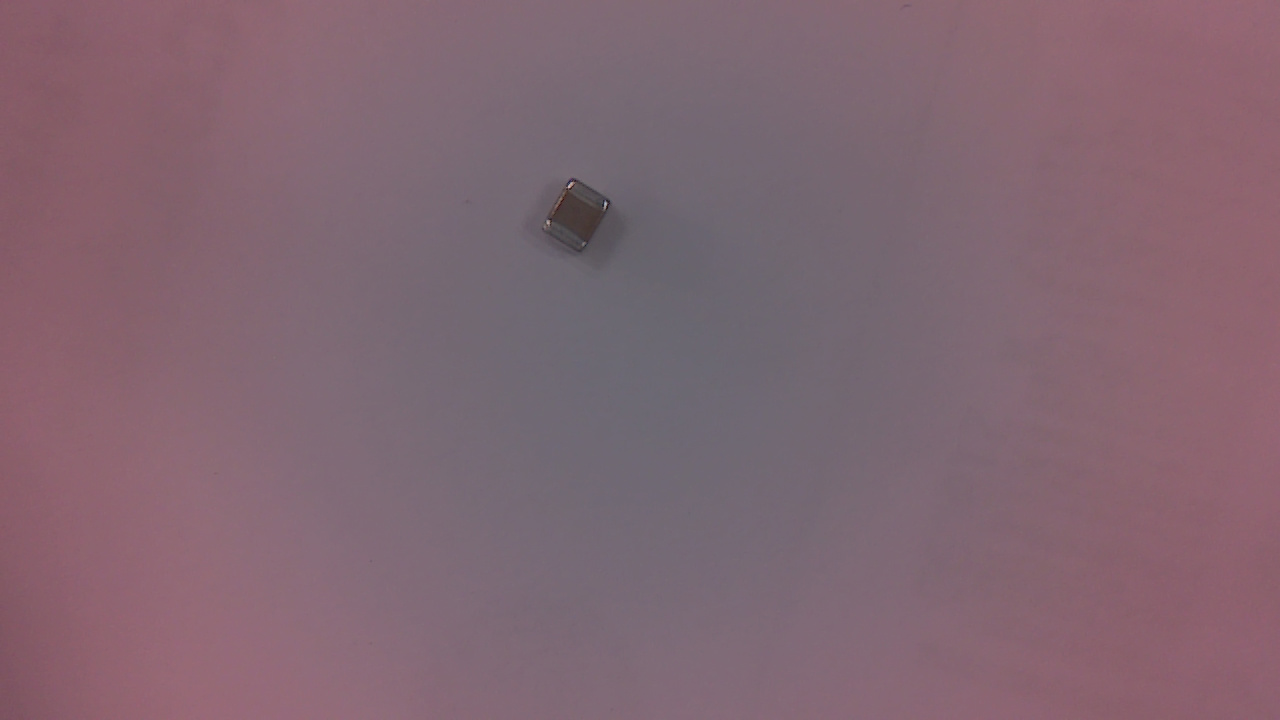Condensator: (542, 183, 616, 260)
